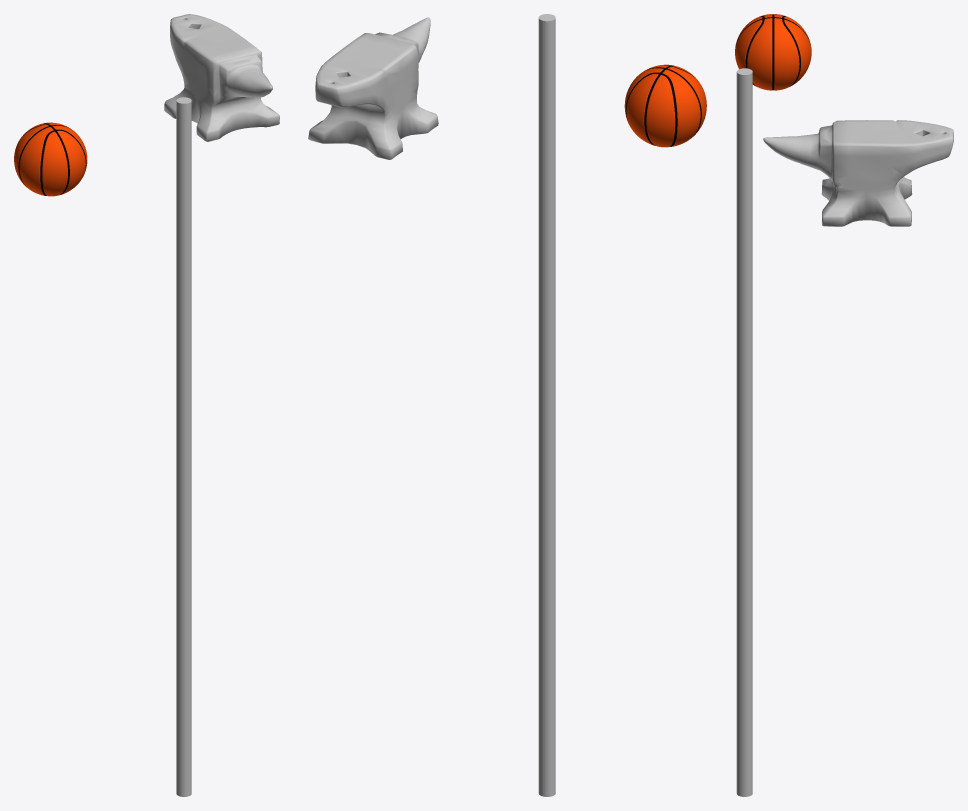
Rendered from ball anvil.obj.
The picture shows the model from 3 angles, left to right: view 1: azimuth 30°, elevation 25°; view 2: azimuth 150°, elevation 25°; view 3: azimuth 270°, elevation 25°; orthographic projection. The views are drawn at different scales.
Parts seen in each view (by area): view 1: Cylinder, RetopoGroup1, Basketball; view 2: Cylinder, RetopoGroup1, Basketball; view 3: Cylinder, RetopoGroup1, Basketball.
Boxes of the visible parts, x1,y1,x2,y2 form: Cylinder: (176, 97, 191, 796); RetopoGroup1: (164, 14, 279, 141); Basketball: (14, 122, 87, 196); Cylinder: (538, 14, 555, 796); RetopoGroup1: (308, 17, 438, 159); Basketball: (624, 64, 706, 147); Cylinder: (736, 68, 752, 796); RetopoGroup1: (763, 120, 953, 226); Basketball: (735, 14, 811, 90).
Bounding box in the file's own units: 862 × 2000 × 550.
